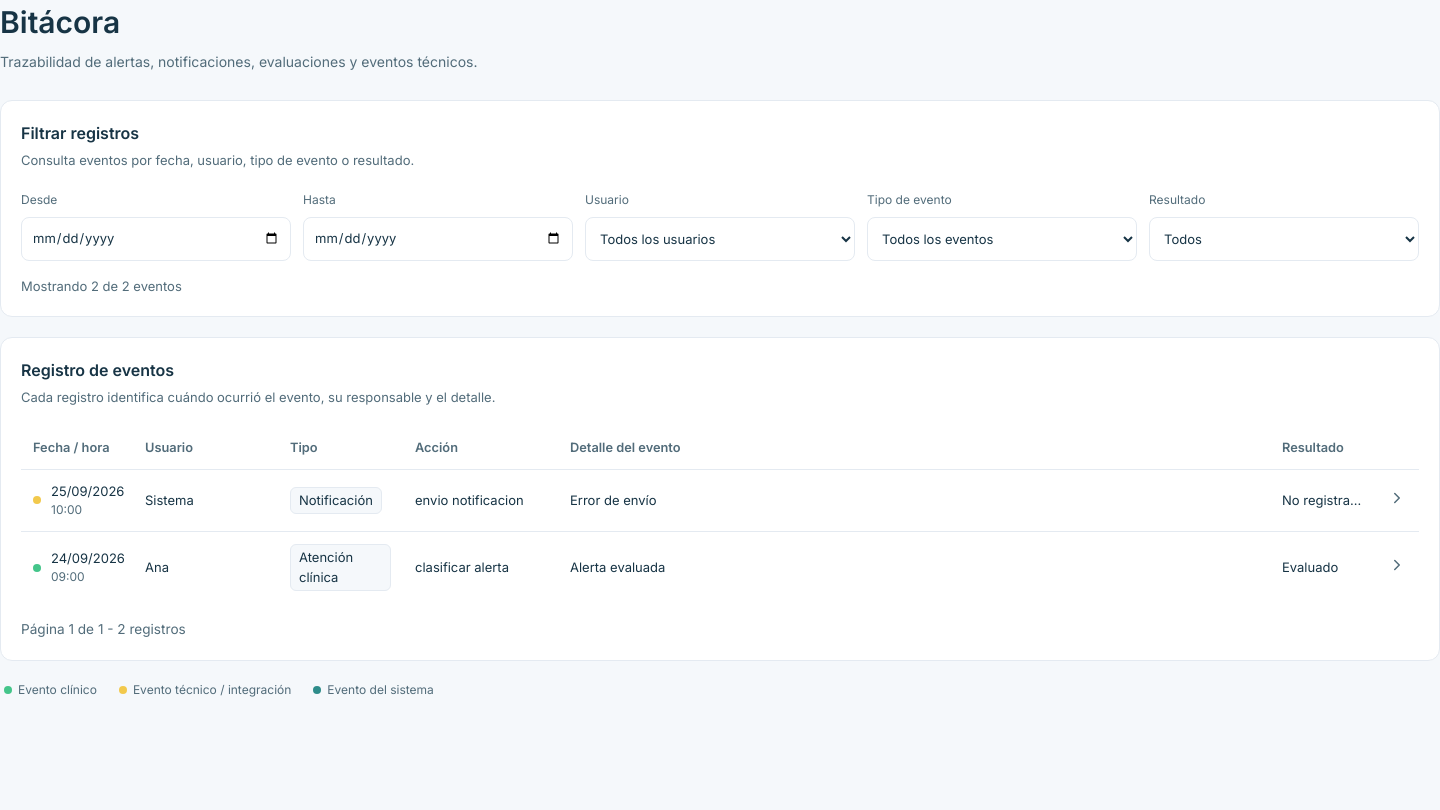
Test: Bitácora › muestra datos reales, ordena por fecha y permite filtrar y abrir el detalle
Expected: the text "Mostrando 2 de 2 eventos" is shown, [21, 278, 182, 294]
Expected: the element named "Categorías de eventos" shows "Evento técnico / integración", [133, 682, 291, 697]
Type "2026-09-25" into the date field labelled "Desde".
click(156, 238); type("2026-09-25")  # box [21, 216, 291, 260]
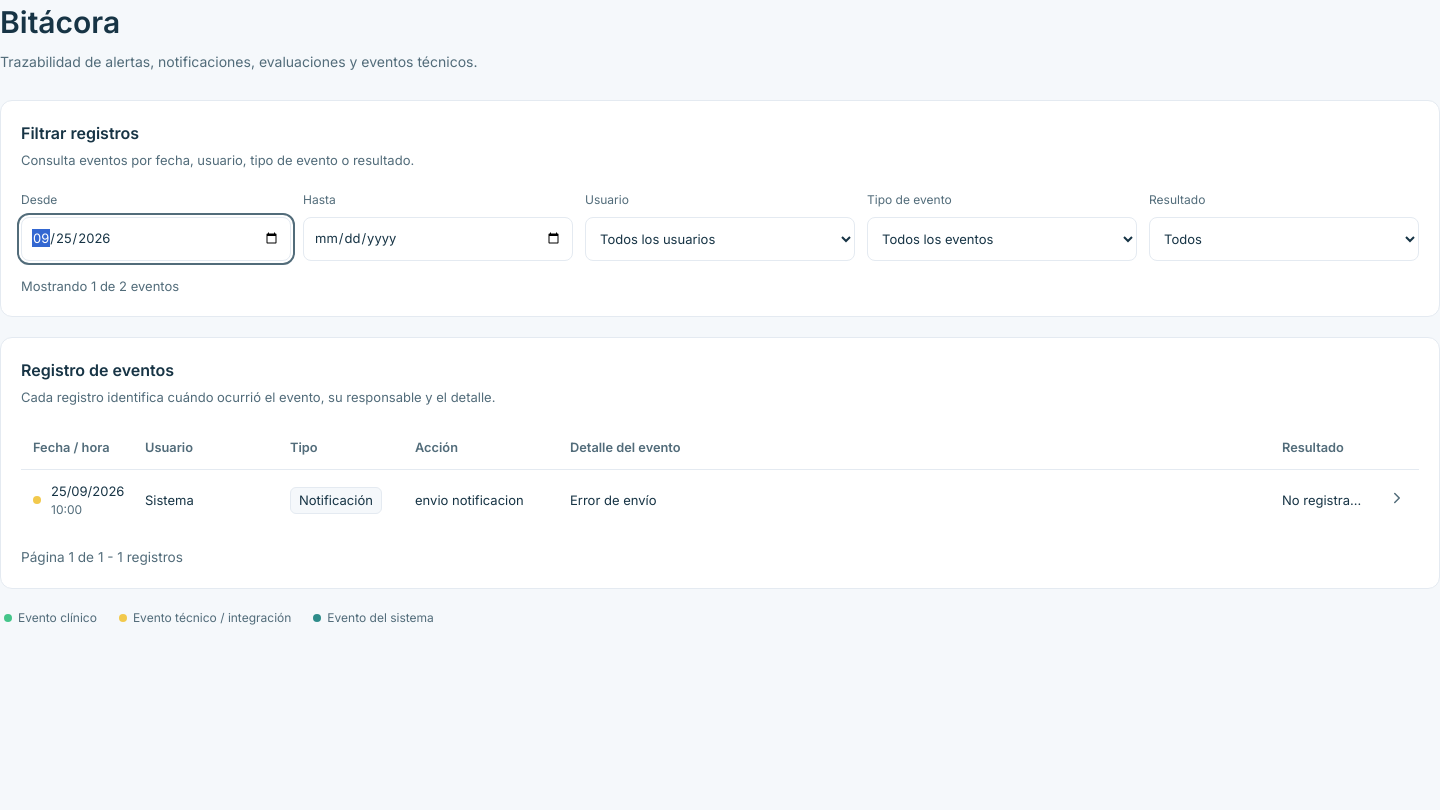
Result: the text "Mostrando 1 de 2 eventos" is shown at [21, 278, 179, 294]
Result: the text "Ana" is gone
Click the button named "Ver detalles de envio notificacion".
click(1397, 498)  # box [1382, 488, 1412, 508]
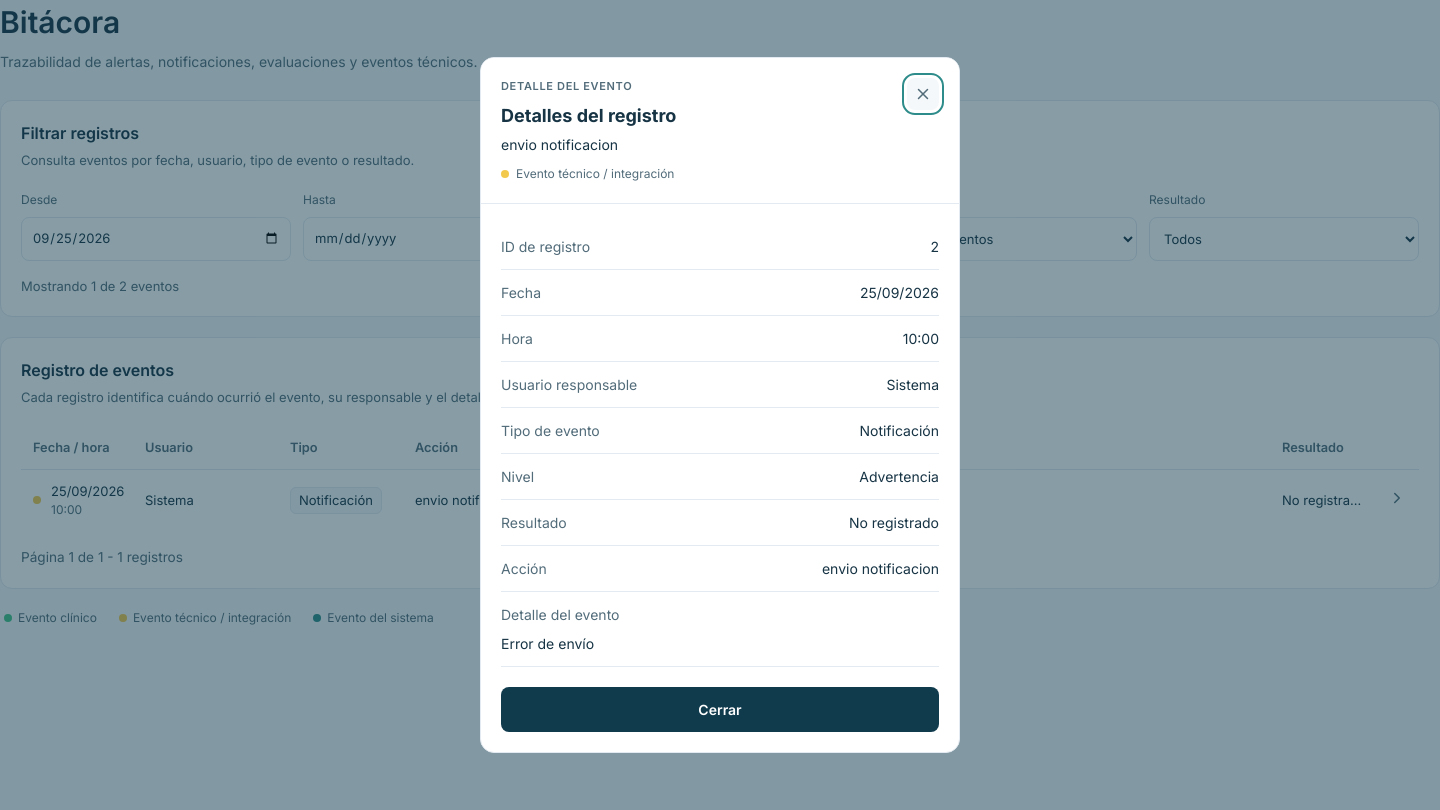
Result: the text "Error de envío" is shown at [501, 635, 594, 652]
Result: the text "2" is shown at [930, 238, 939, 255]
Result: the text "Evento técnico / integración" is shown at [501, 165, 676, 183]
Click the button "Cerrar".
click(720, 710)  # box [501, 687, 939, 732]
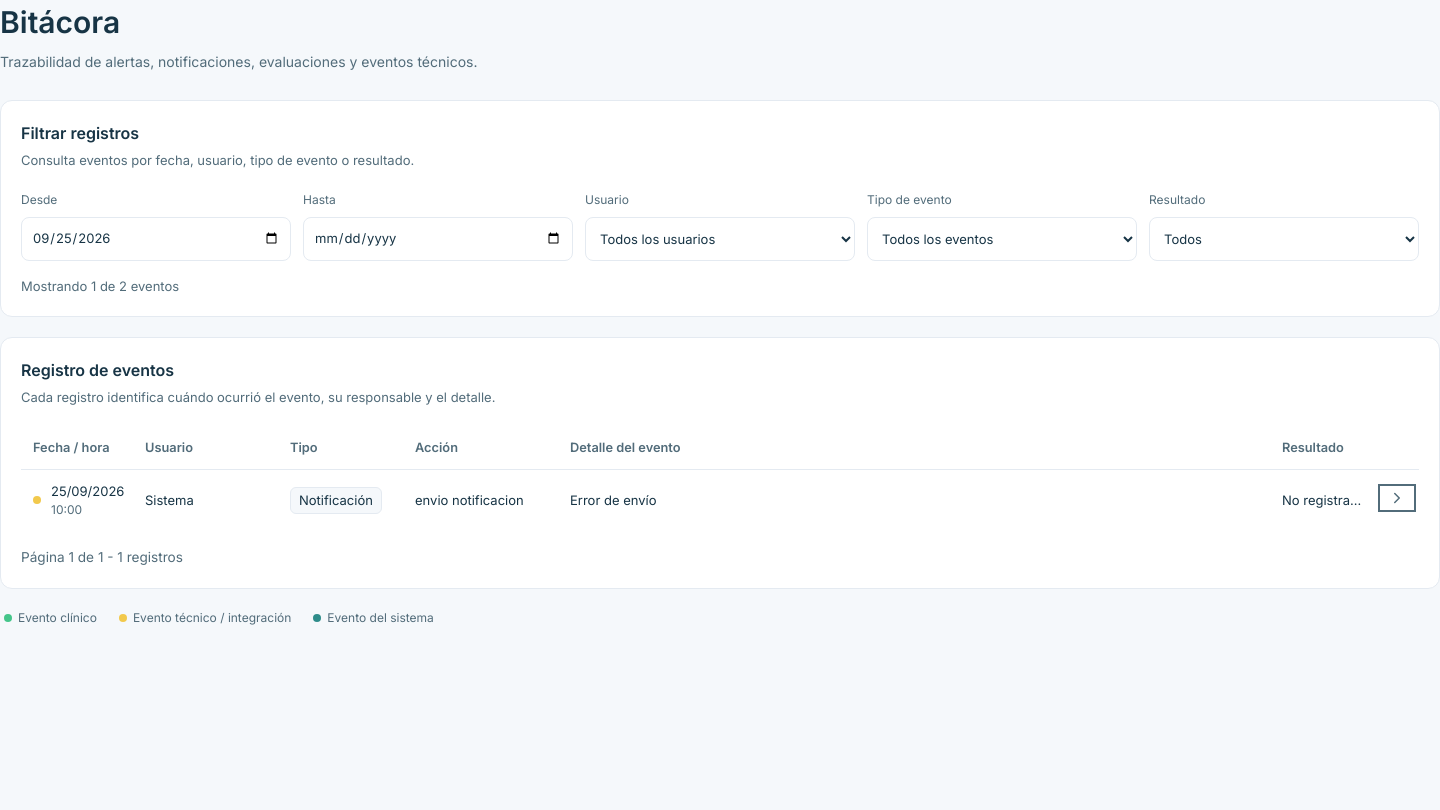
Result: the dialog is gone
